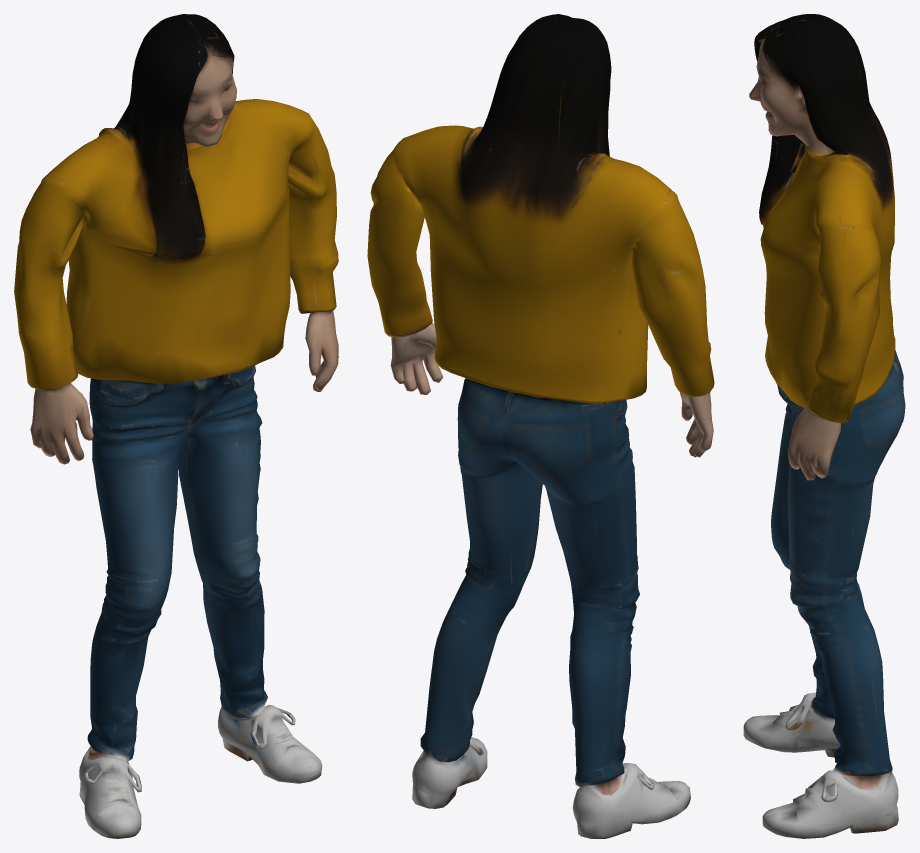
File: wanita_idle.glb
The picture shows the model from 3 angles, left to right: view 1: azimuth 30°, elevation 25°; view 2: azimuth 150°, elevation 25°; view 3: azimuth 270°, elevation 25°; orthographic projection.
Parts seen in each view (by area): view 1: tripo_node_79ef41da; view 2: tripo_node_79ef41da; view 3: tripo_node_79ef41da.
Part boxes in pixels (x1,y1,x2,y2): tripo_node_79ef41da: [14, 14, 338, 838]; tripo_node_79ef41da: [367, 14, 714, 838]; tripo_node_79ef41da: [743, 14, 905, 838].
Bounding box in the file's own units: 44.28 × 102 × 19.55.
1 material, 1 textured.
